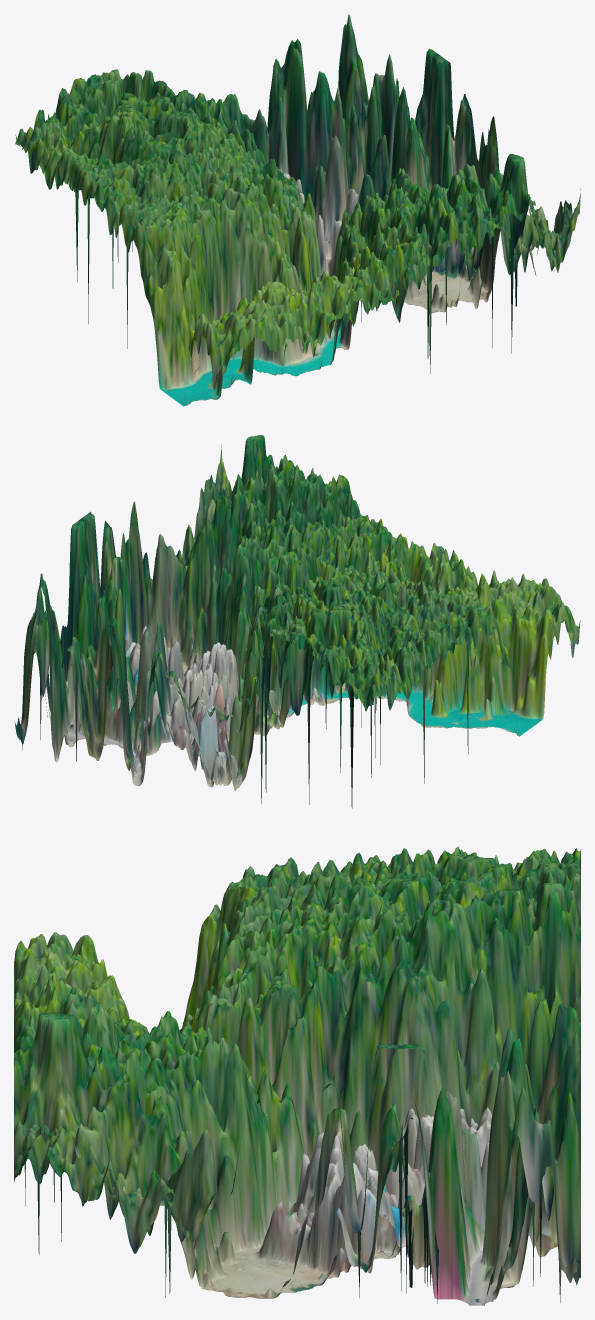
File: dsm_d5708abea6_mesh.glb
3 renders of one model, top to bottom at view 1: azimuth 30°, elevation 25°; view 2: azimuth 150°, elevation 25°; view 3: azimuth 270°, elevation 25°, orthographic. The views are drawn at different scales.
Parts seen in each view (by area): view 1: geometry_0; view 2: geometry_0; view 3: geometry_0.
Boxes of the visible parts, box(x1,y1,x2,y2) form: geometry_0: box(15, 14, 580, 406); geometry_0: box(14, 435, 580, 808); geometry_0: box(14, 846, 580, 1305).
Size of the model in its own units: 2 by 1 by 2.
